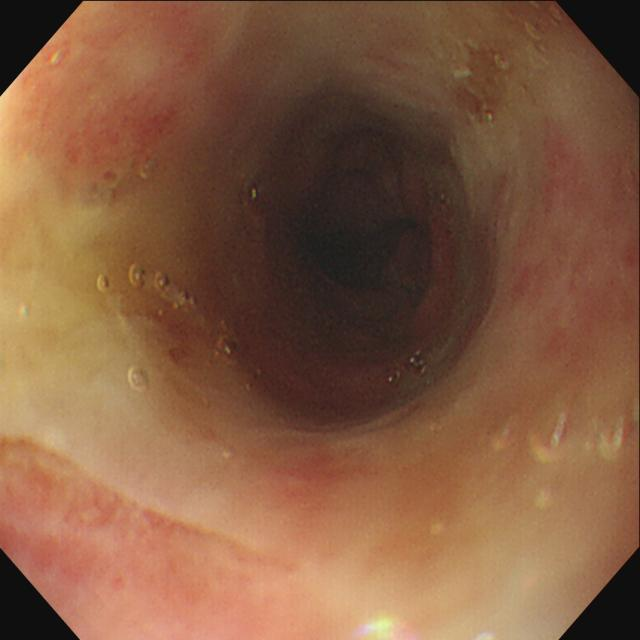A: (2, 436, 239, 636), (521, 132, 640, 348), (55, 75, 172, 184)
E: (300, 167, 431, 322)
T: (95, 264, 199, 315), (126, 364, 153, 396), (216, 336, 242, 362)
